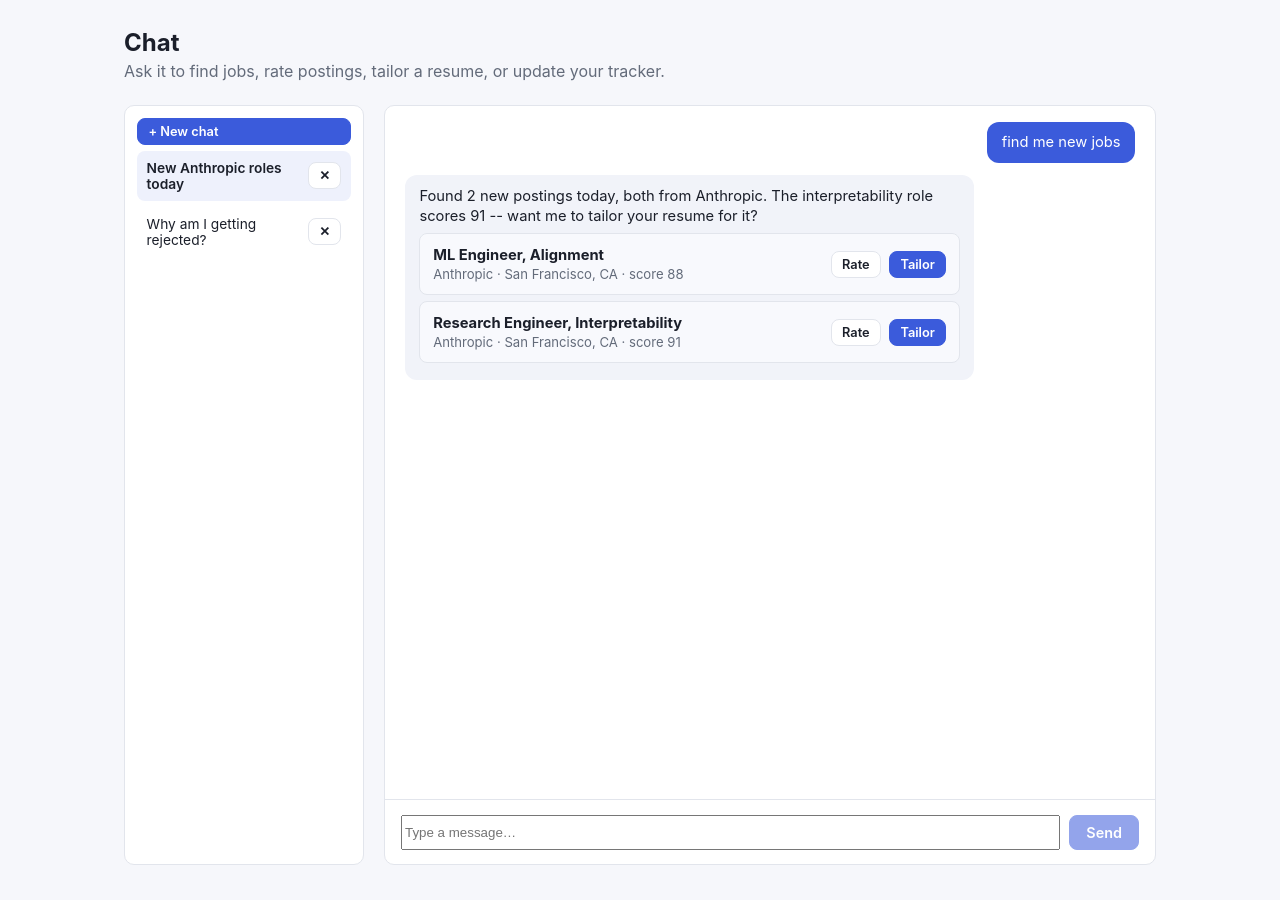
ChatPage › starts a new conversation
This screenshot has width=1280, height=900.
Expected: the text "New Anthropic roles today" is shown, [147,160,302,192]
Step 1. Click the button "+ New chat" → x=244, y=131, box [137,118,351,145]
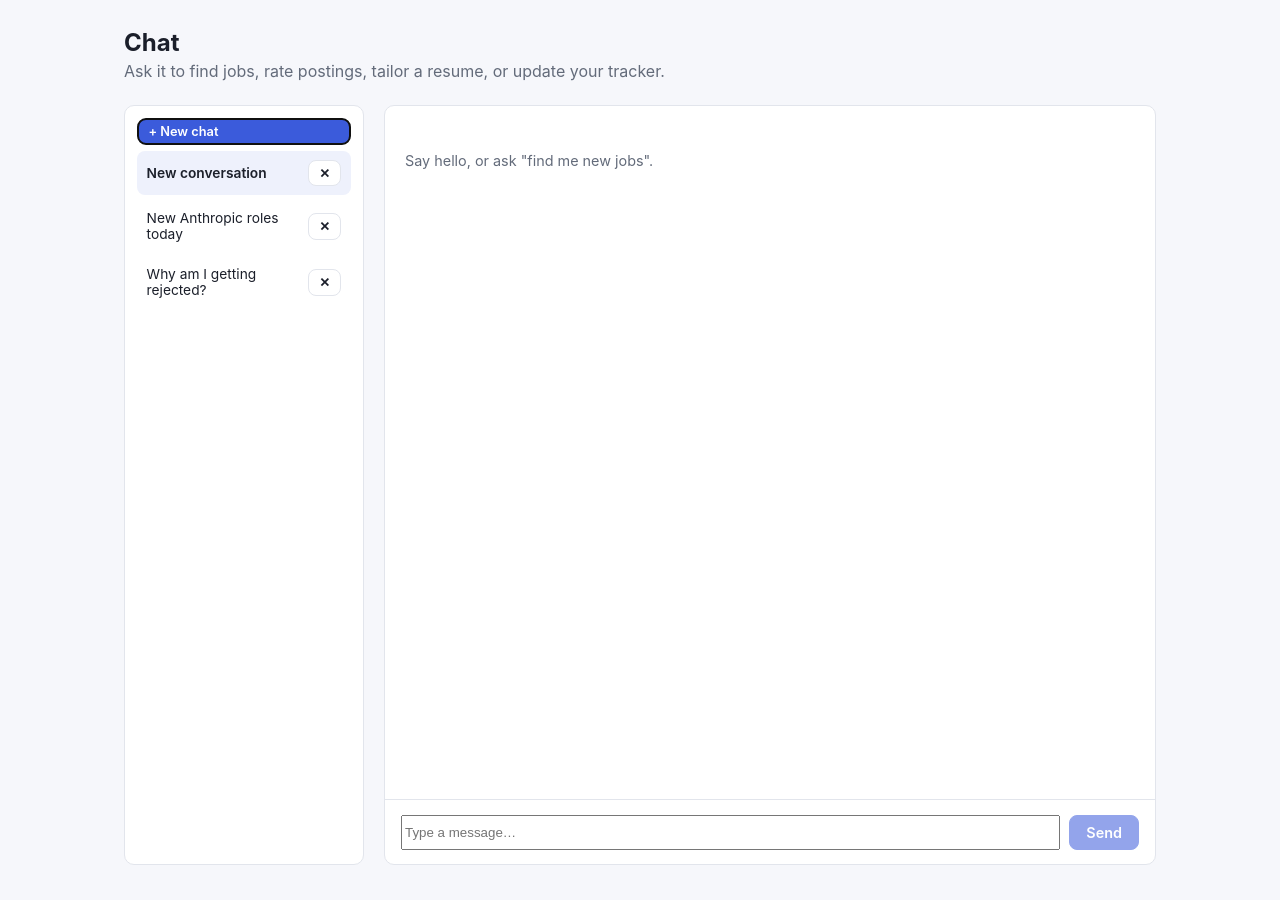
Result: the text "Say hello, or ask \"find me new jobs\"." is shown at [405,152,653,169]
